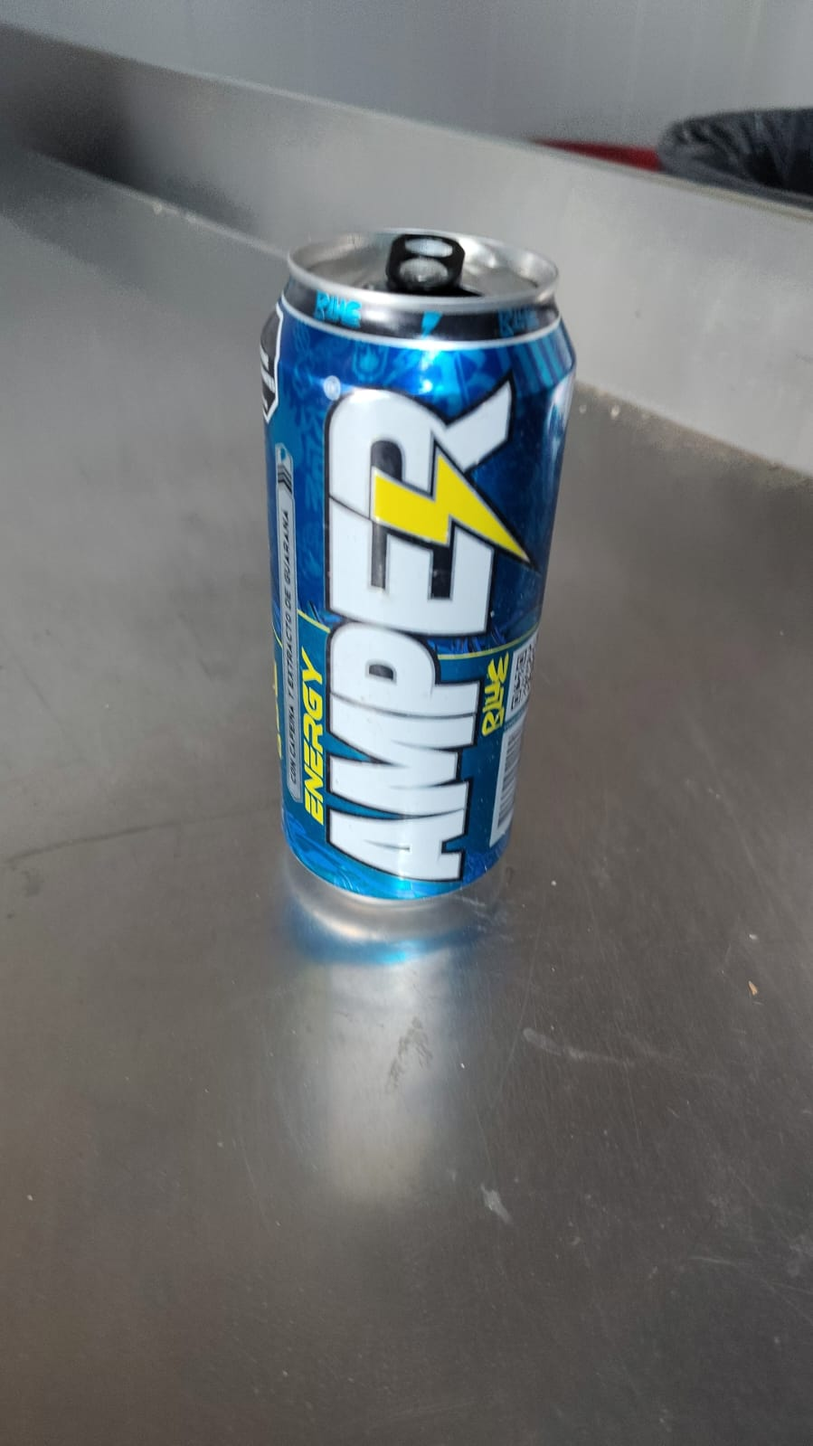Metal: (260, 232, 575, 912)
